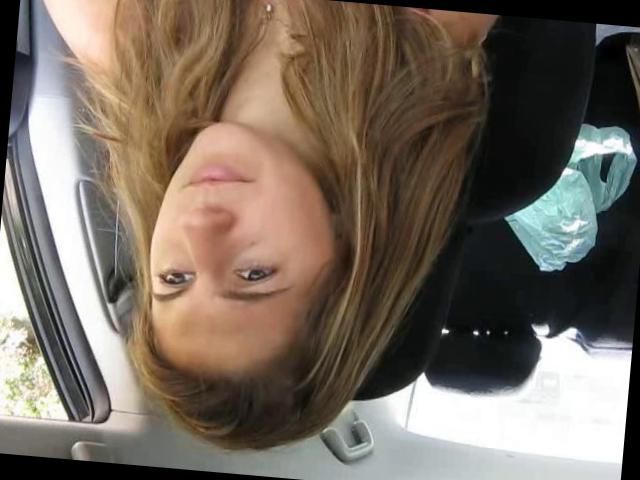eye_open: (231, 256, 284, 288), (154, 262, 192, 291)
face: (136, 113, 328, 335)
